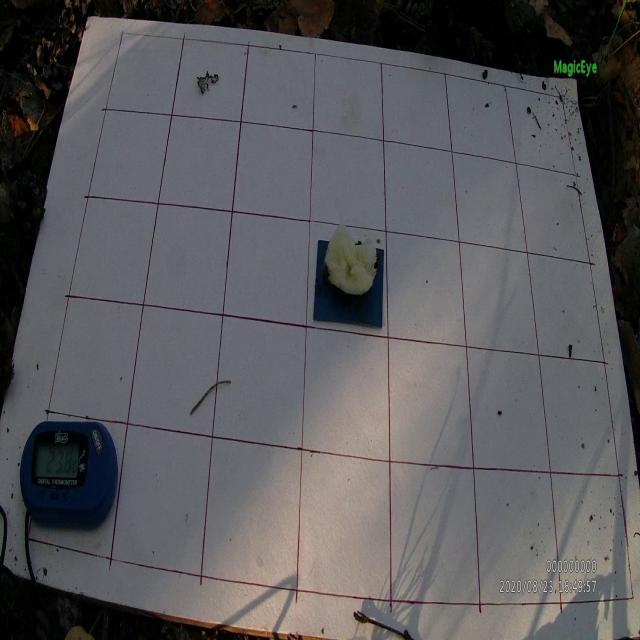Ant: (368, 251, 380, 276)
